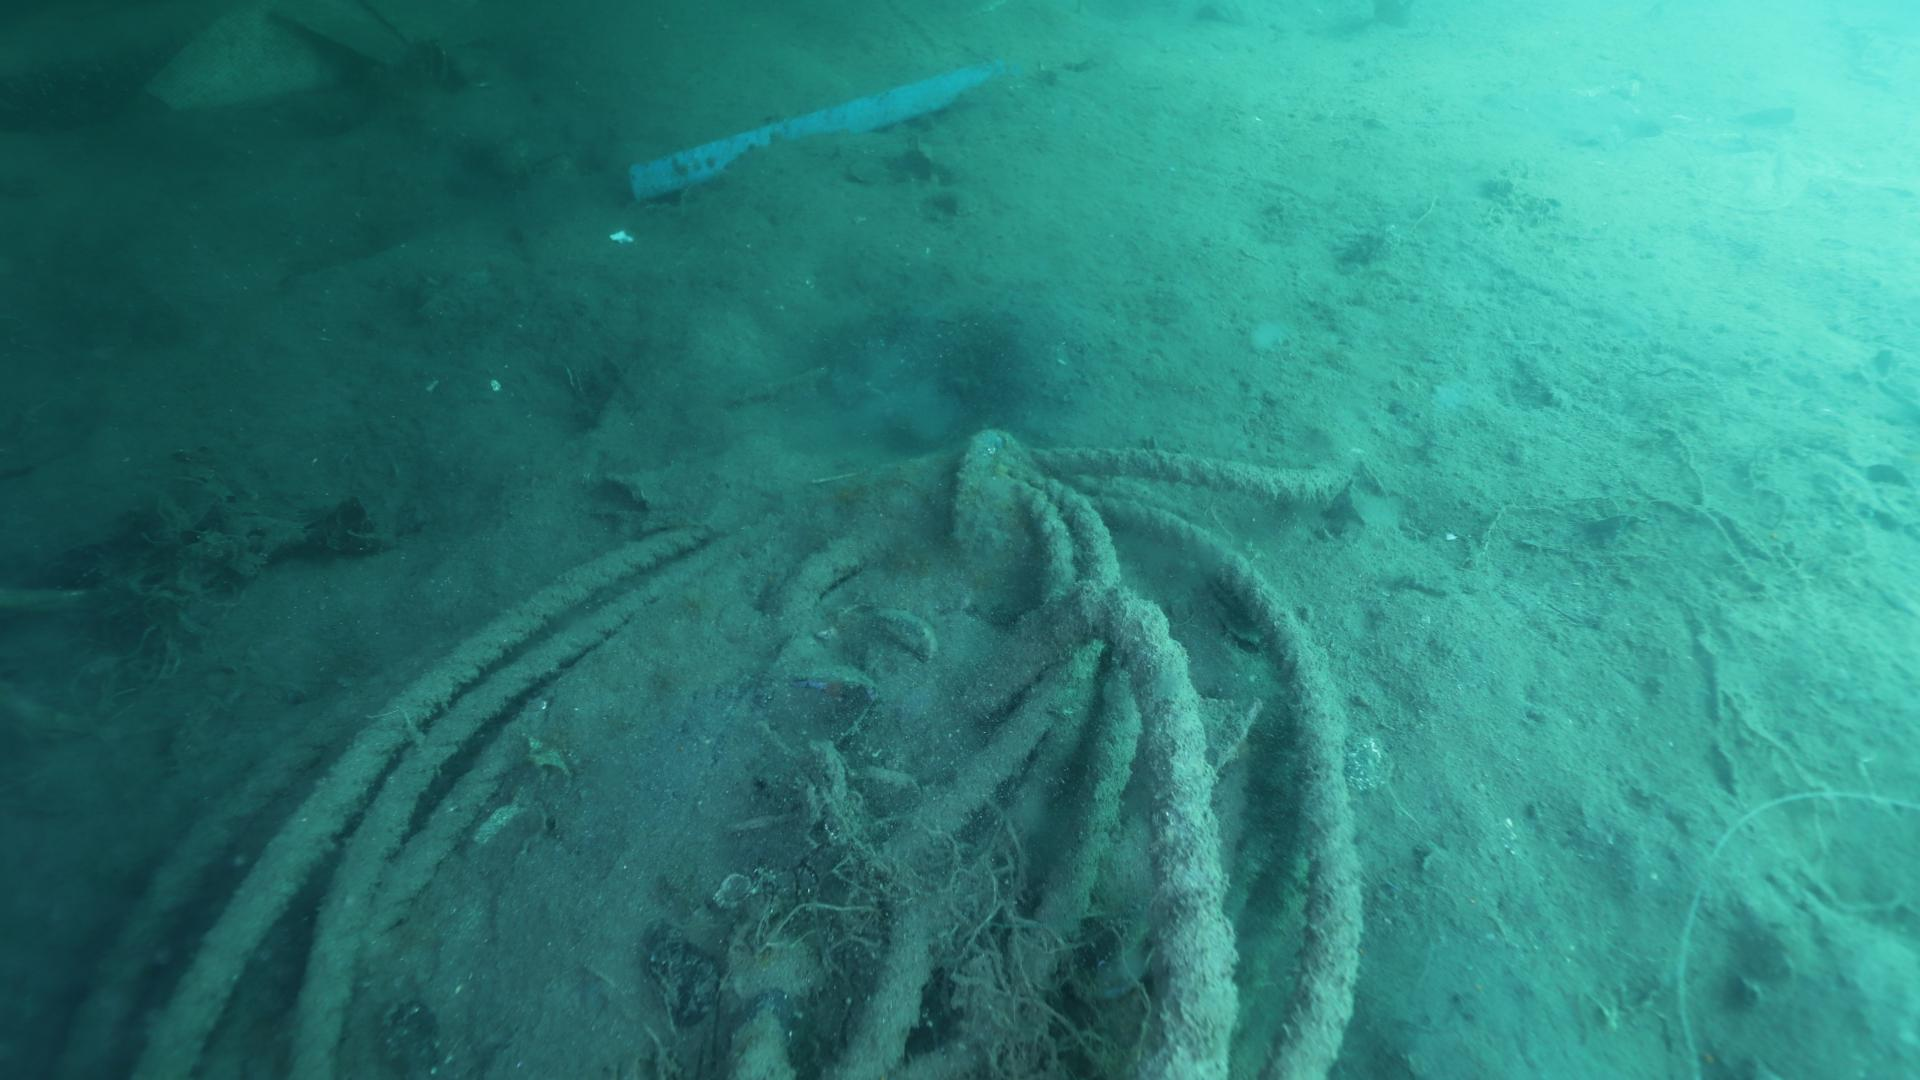bundle of ropes: (61, 448, 1367, 1080)
